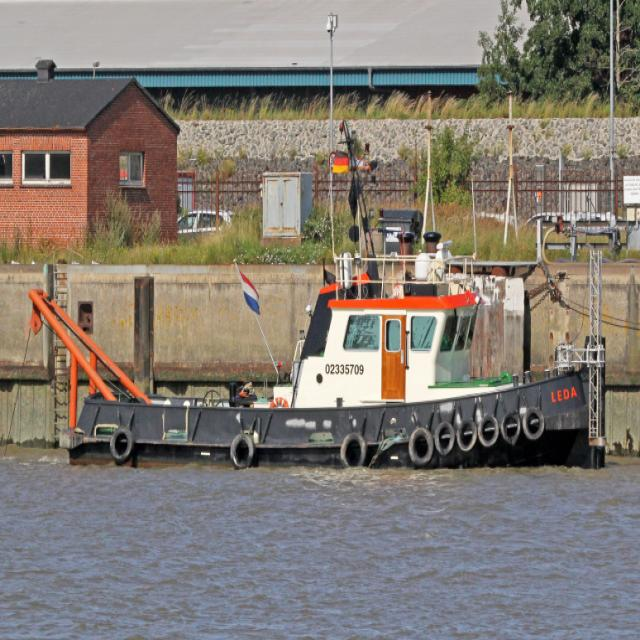tugboat: (27, 204, 618, 491)
